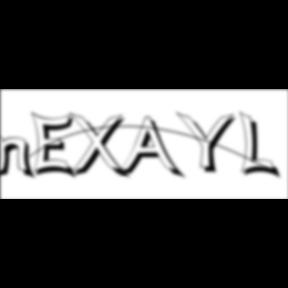A: (118, 116, 188, 182)
E: (32, 110, 80, 182)
L: (240, 110, 284, 182)
X: (69, 112, 133, 182)
Y: (176, 110, 242, 176)
n: (1, 132, 40, 181)
